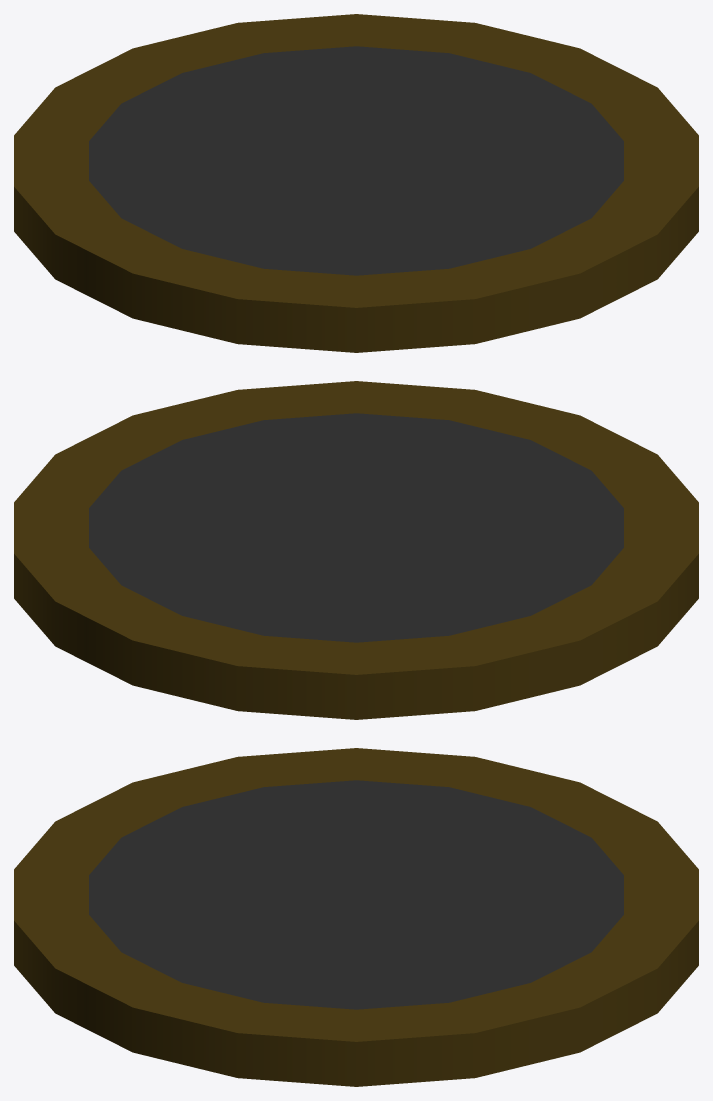
File: Coin.fbx
3 renders of one model, top to bottom at view 1: azimuth 30°, elevation 25°; view 2: azimuth 150°, elevation 25°; view 3: azimuth 270°, elevation 25°, orthographic.
Visible parts, largest first — view 1: coin; view 2: coin; view 3: coin.
Part boxes in pixels (x1,y1,x2,y2): coin: [14, 14, 698, 352]; coin: [14, 381, 698, 719]; coin: [14, 748, 698, 1086].
Size of the model in its own units: 14 by 1 by 13.79.
